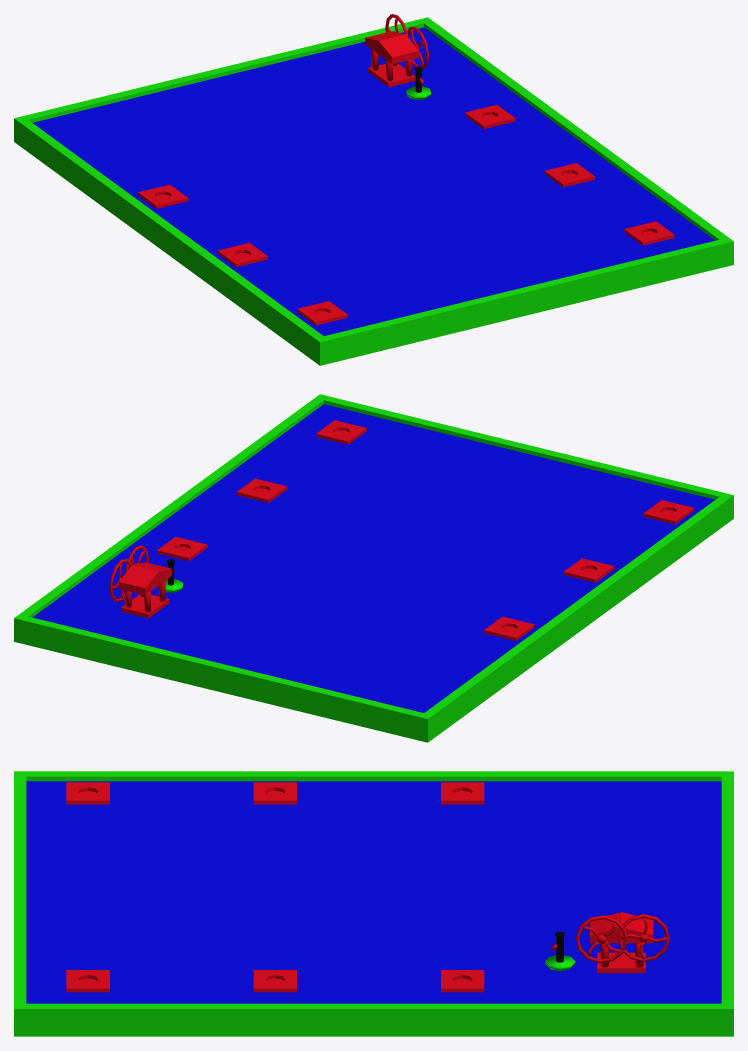
The model's file is Oswiecim_Square.fbx.
3 views of the same model, one above another, from view 1: azimuth 30°, elevation 25°; view 2: azimuth 150°, elevation 25°; view 3: azimuth 270°, elevation 25° (orthographic). The views are drawn at different scales.
Parts seen in each view (by area): view 1: Plane; view 2: Plane; view 3: Plane.
Boxes of the visible parts, x1,y1,x2,y2 form: Plane: [14, 14, 733, 365]; Plane: [14, 394, 733, 742]; Plane: [14, 771, 733, 1036].
Size of the model in its own units: 907 by 147 by 1162.
